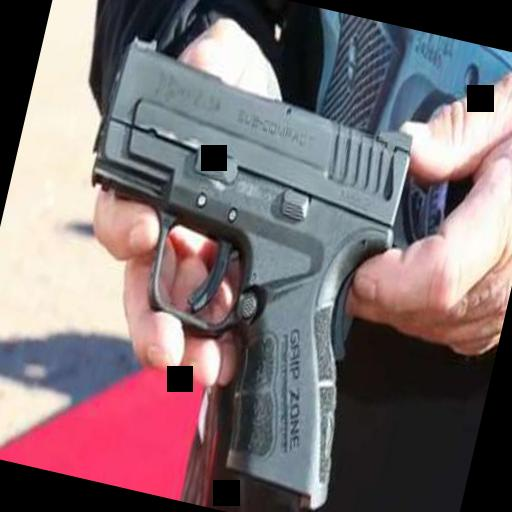Handgun: (26, 31, 424, 512)
